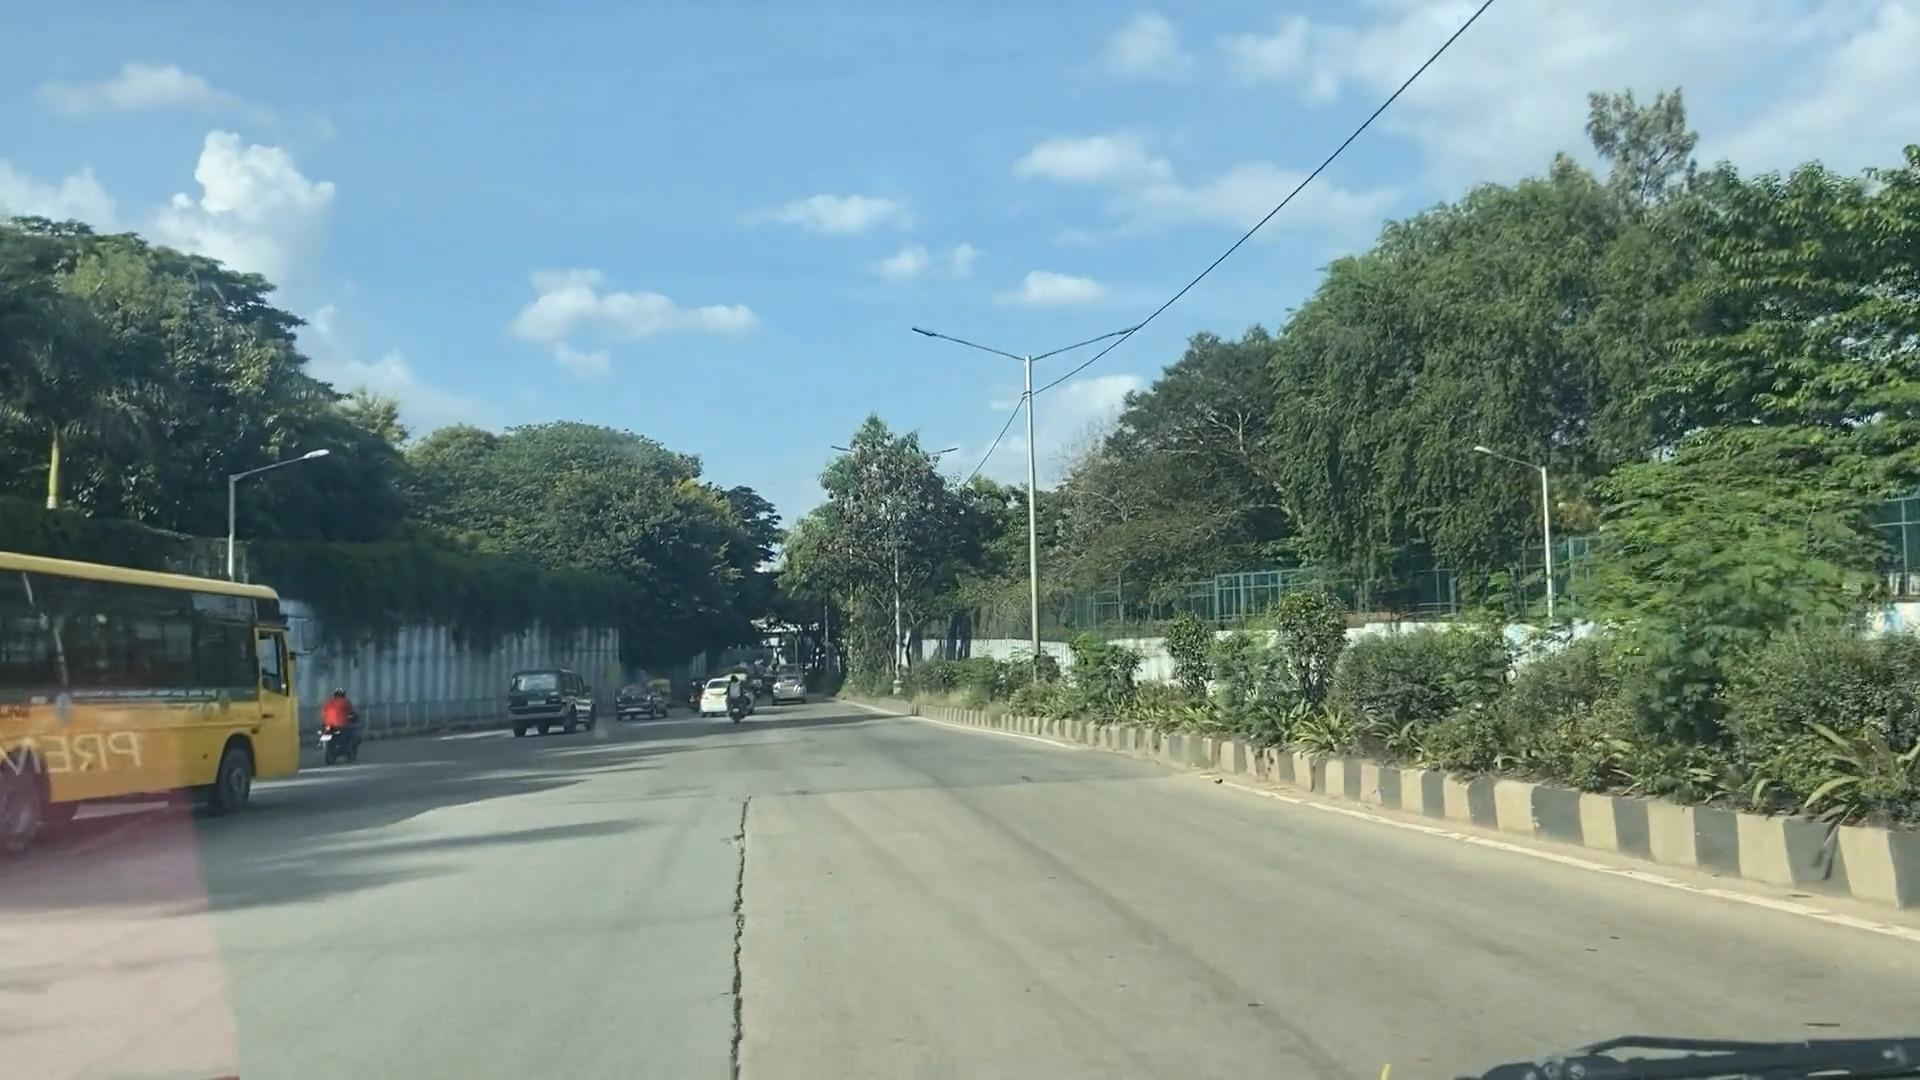RoadDamages: (681, 951, 797, 1080), (694, 838, 804, 941)
